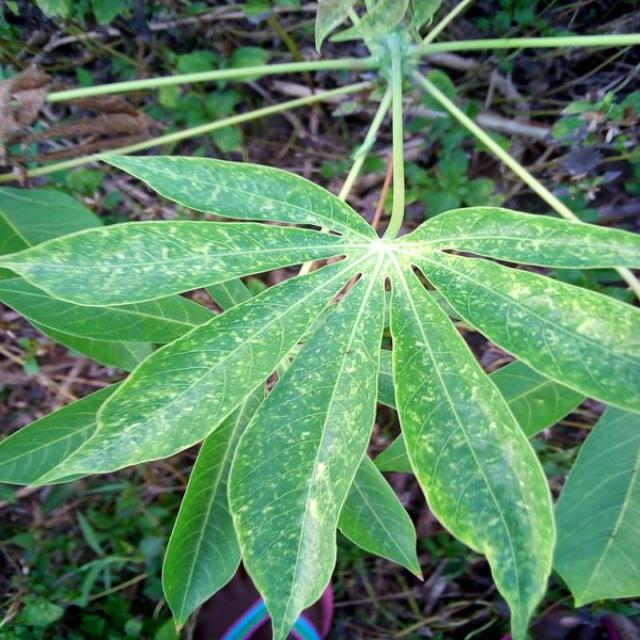cassava leaf: (1, 146, 638, 637), (387, 253, 557, 638)
